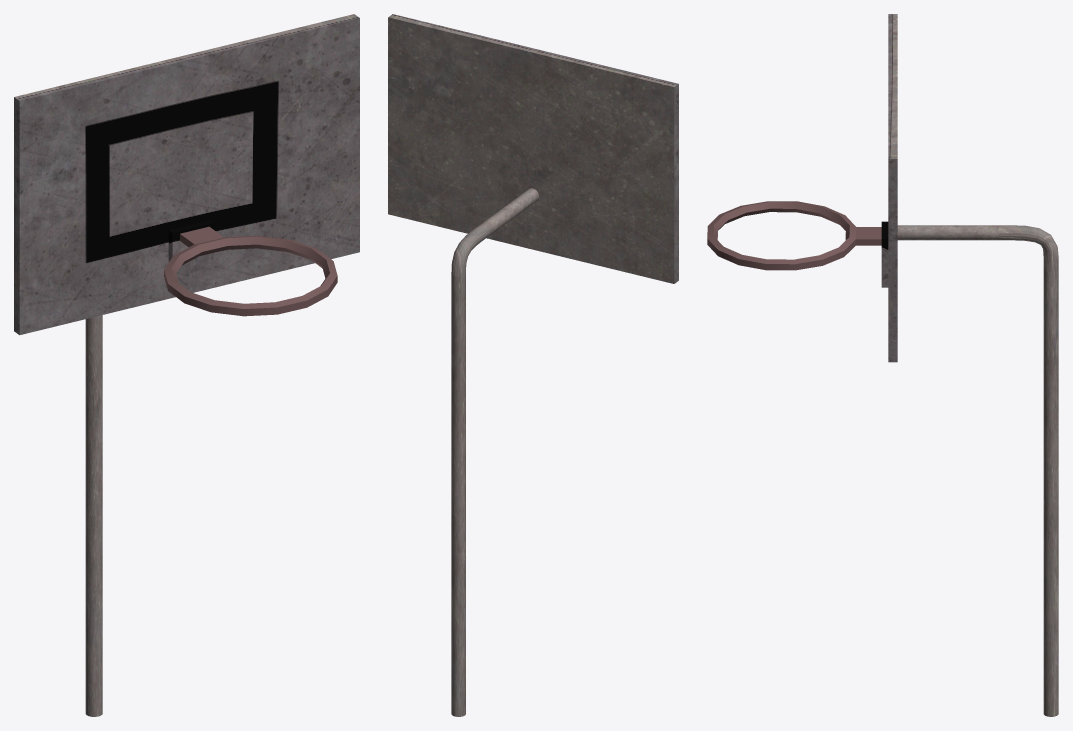
Rendered from Cesta de basquete.fbx.
3 renders of one model, left to right at view 1: azimuth 30°, elevation 25°; view 2: azimuth 150°, elevation 25°; view 3: azimuth 270°, elevation 25°, orthographic. The views are drawn at different scales.
Visible parts, largest first — view 1: Cesta_de_basquete; view 2: Cesta_de_basquete; view 3: Cesta_de_basquete.
Boxes of the visible parts, left/top/right/bottom form: Cesta_de_basquete: left=14, top=14, right=359, bottom=716; Cesta_de_basquete: left=388, top=14, right=678, bottom=716; Cesta_de_basquete: left=707, top=14, right=1058, bottom=716.
Bounding box in the file's own units: 168 × 341 × 173.
1 material, 1 textured.
